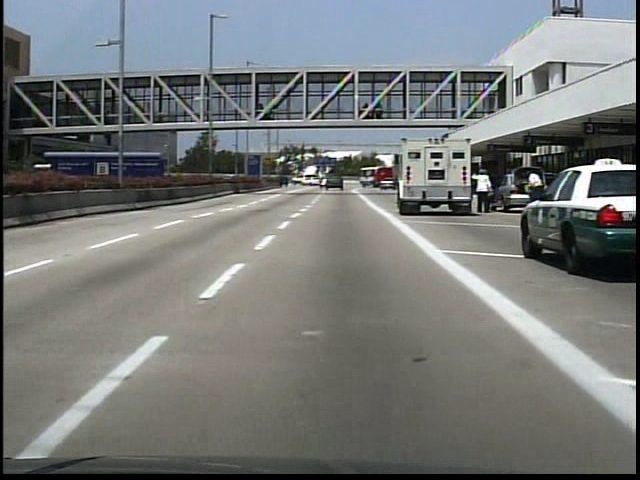person: (473, 163, 499, 217), (521, 166, 542, 213)
